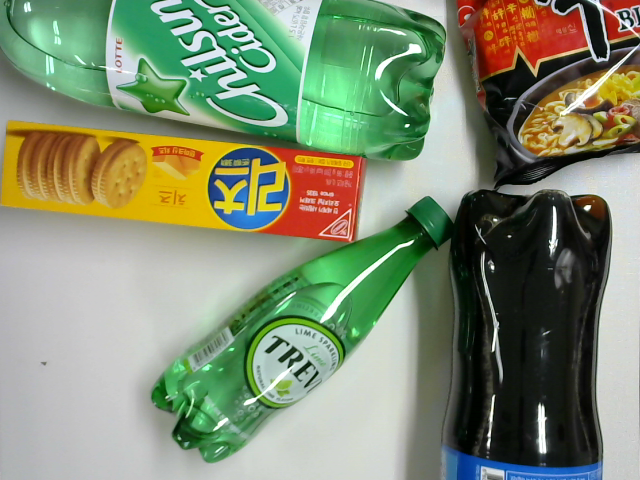Chilseong_Cider_1.5L: (1, 1, 449, 163)
Pepsi_Cola_1.5L: (449, 190, 612, 480)
Ritz_Sand_Cracker: (1, 122, 371, 244)
Sinramen_Black: (457, 1, 640, 191)
Treviraim_500ml: (151, 194, 456, 468)
